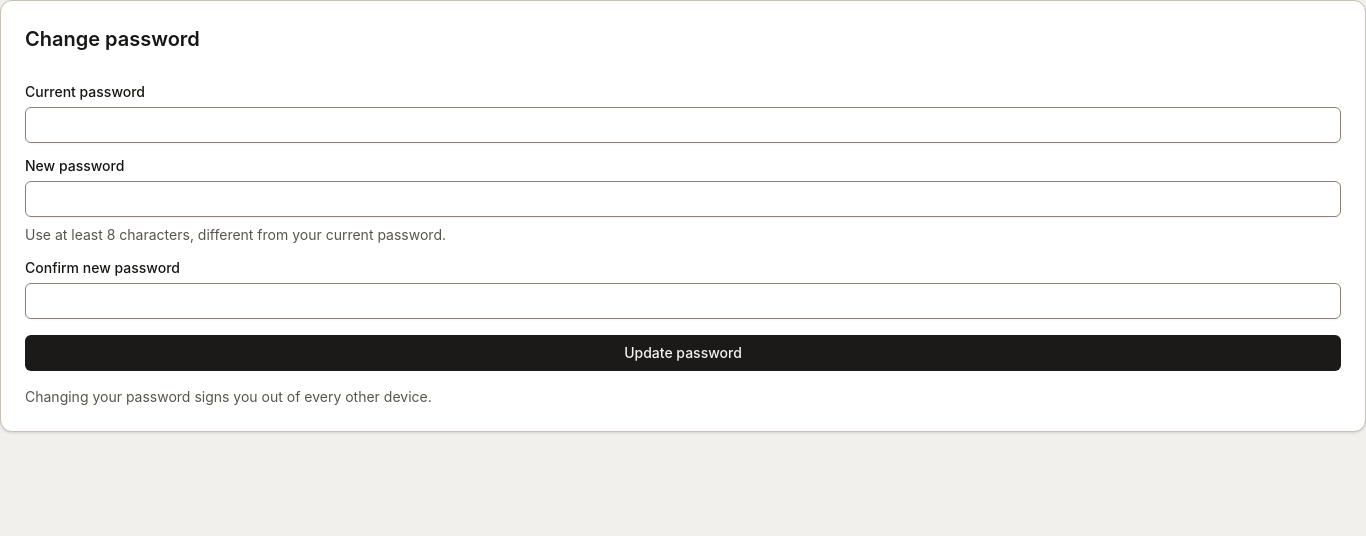
ChangePassword › maps unknown errors through the shared auth error catalog
Type "oldpassword-1" into the password field labelled "Current password" at (683, 125), box [25,107,1341,143]
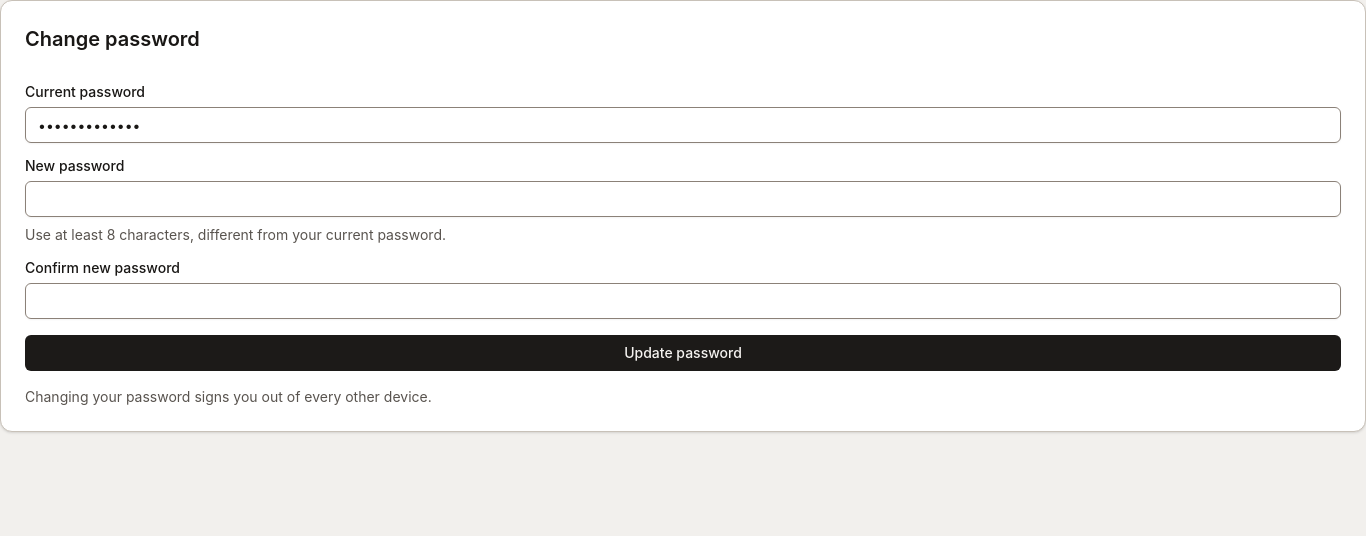
Type "brand-new-pass" into the password field labelled "New password" at (683, 199), box [25,181,1341,217]
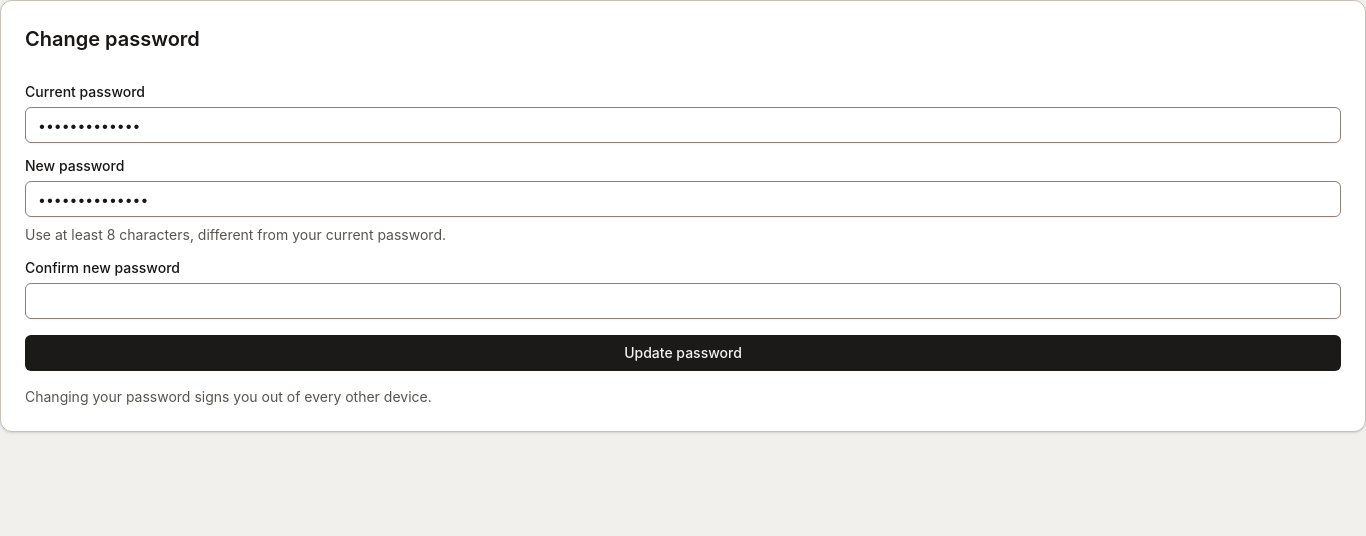
Type "brand-new-pass" into the password field labelled "Confirm new password" at (683, 301), box [25,283,1341,319]
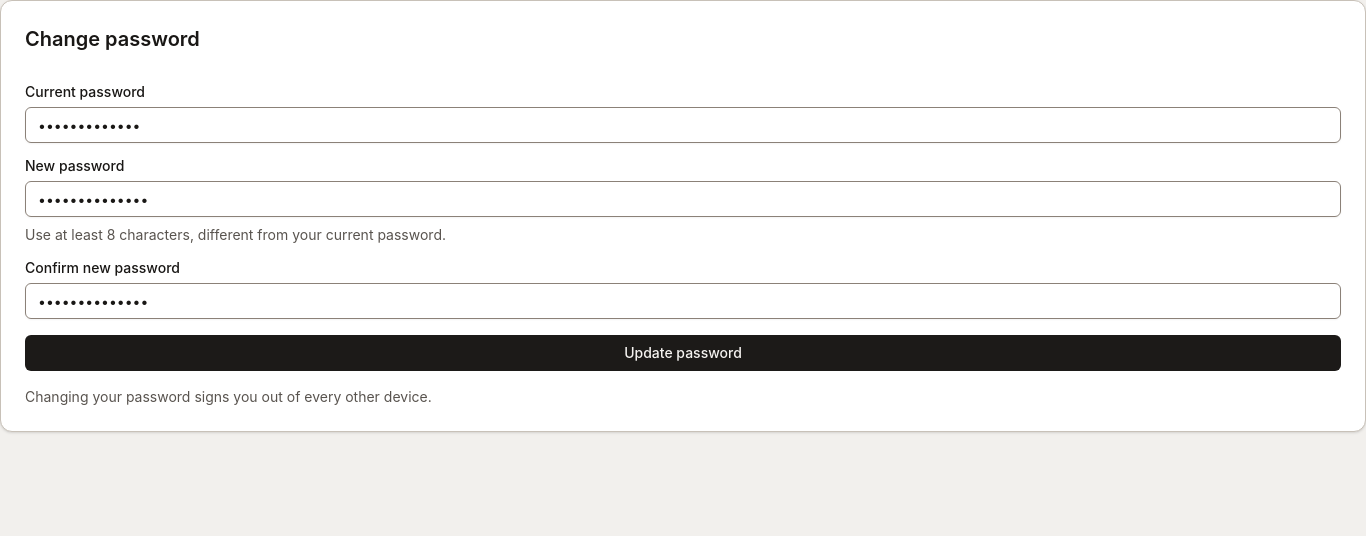
Click the button "Update password" at (683, 353), box [25,335,1341,371]
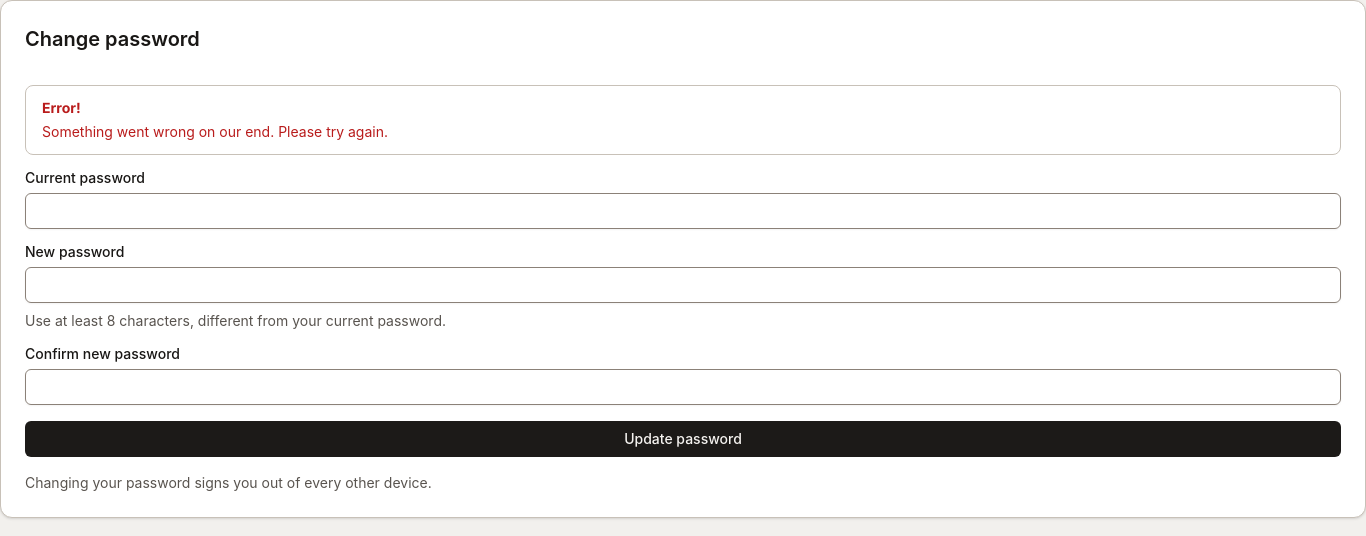
Expected: the message shows "Something went wrong on our end. Please try again.", [42,123,388,140]
